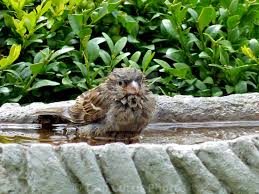hsparrow: (30, 66, 160, 137)
